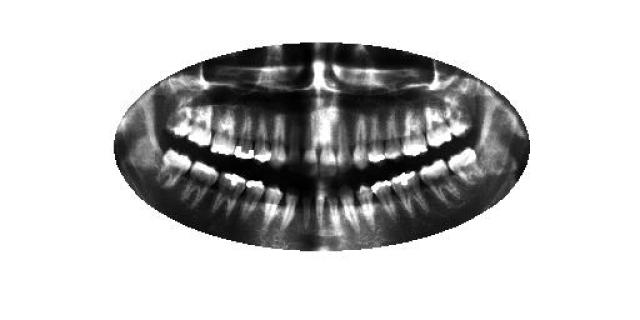Fillings: (390, 170, 430, 218), (212, 172, 246, 218), (210, 106, 238, 156), (401, 109, 429, 158), (240, 179, 266, 220), (370, 179, 398, 215), (235, 110, 254, 161), (256, 111, 272, 165)
